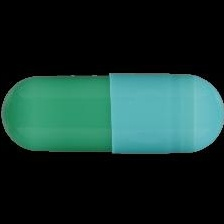65862-185: (0, 0, 224, 224)
